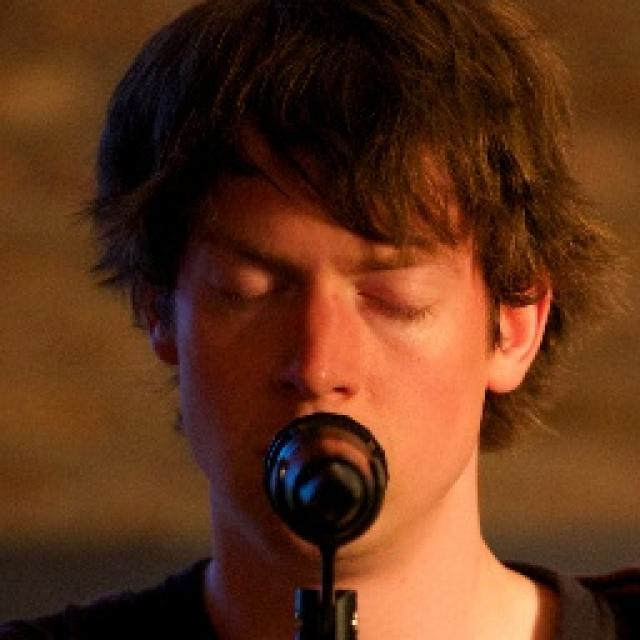earlobe: (486, 251, 552, 395), (130, 240, 185, 366)
